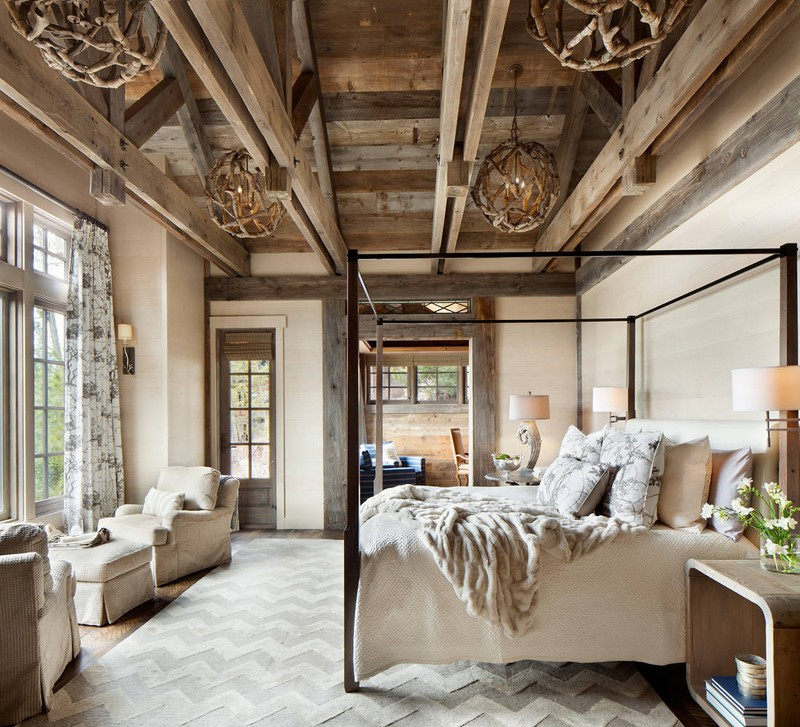bed: (340, 236, 787, 677)
lamp: (730, 360, 800, 453), (508, 384, 557, 479), (589, 381, 630, 443), (114, 322, 138, 386)
sofa: (96, 465, 241, 590), (1, 513, 89, 717)
stool: (679, 544, 800, 722), (47, 529, 160, 636)
